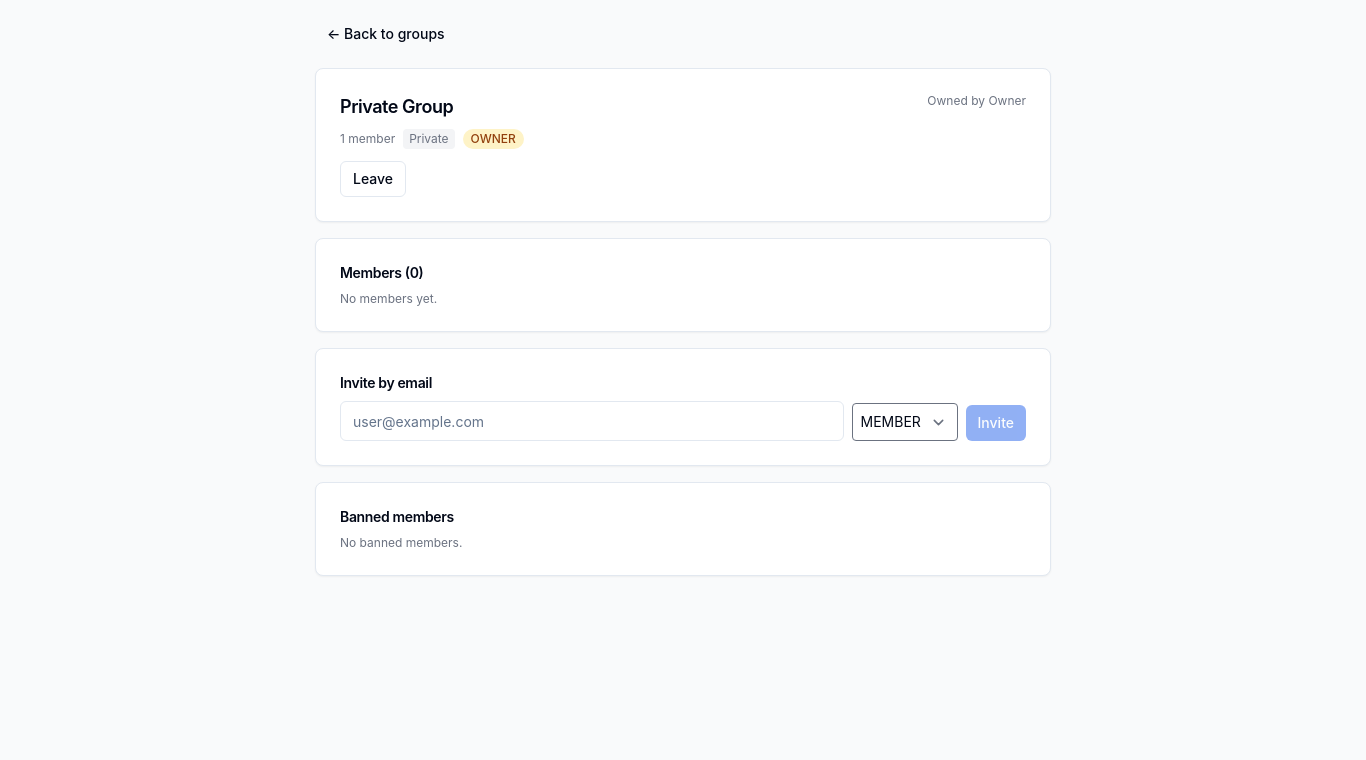
durable invite-link recovery › creating an invite › when the clipboard works the toast says so, and the invite is listed all the same
Type "new@test.com" into the field with placeholder "user@example.com" at (592, 421), box [340, 401, 844, 441]
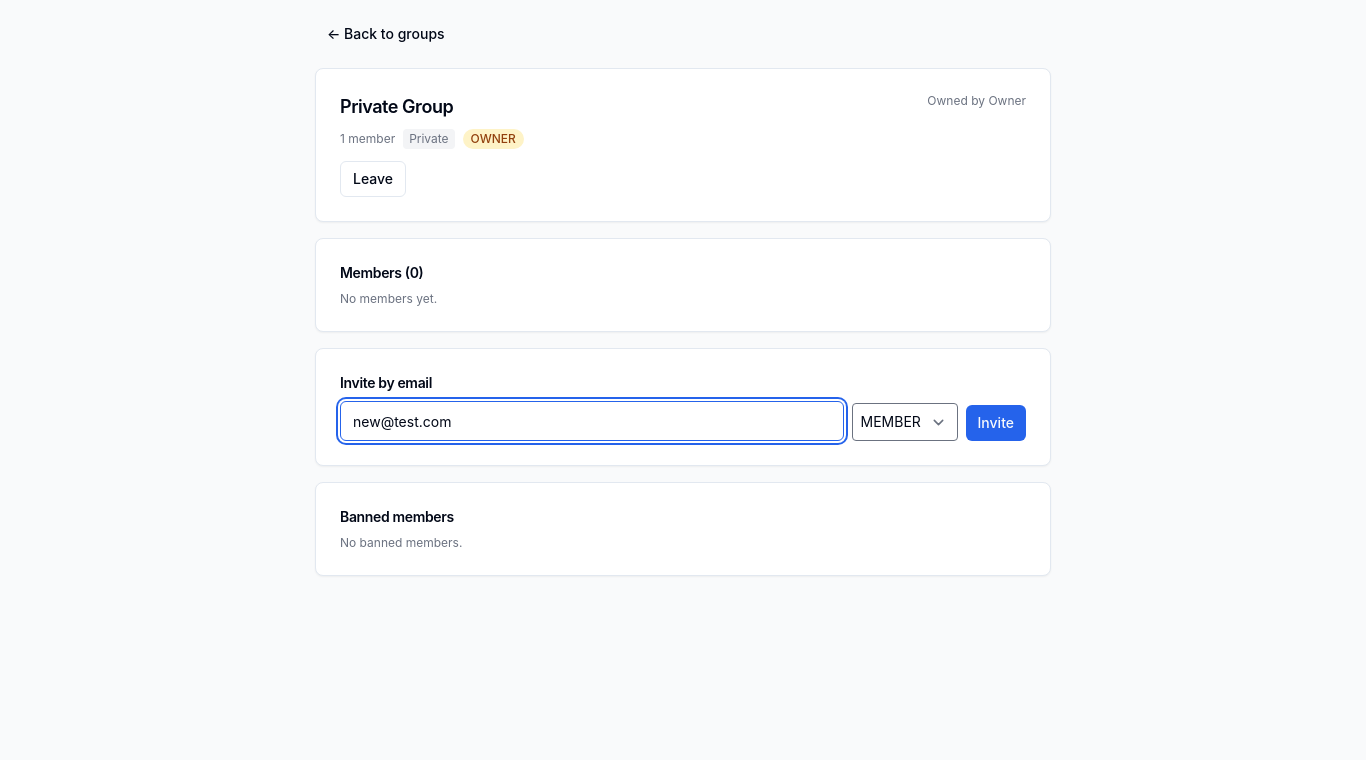
Click the button "Invite" at (996, 423), box [966, 405, 1026, 441]
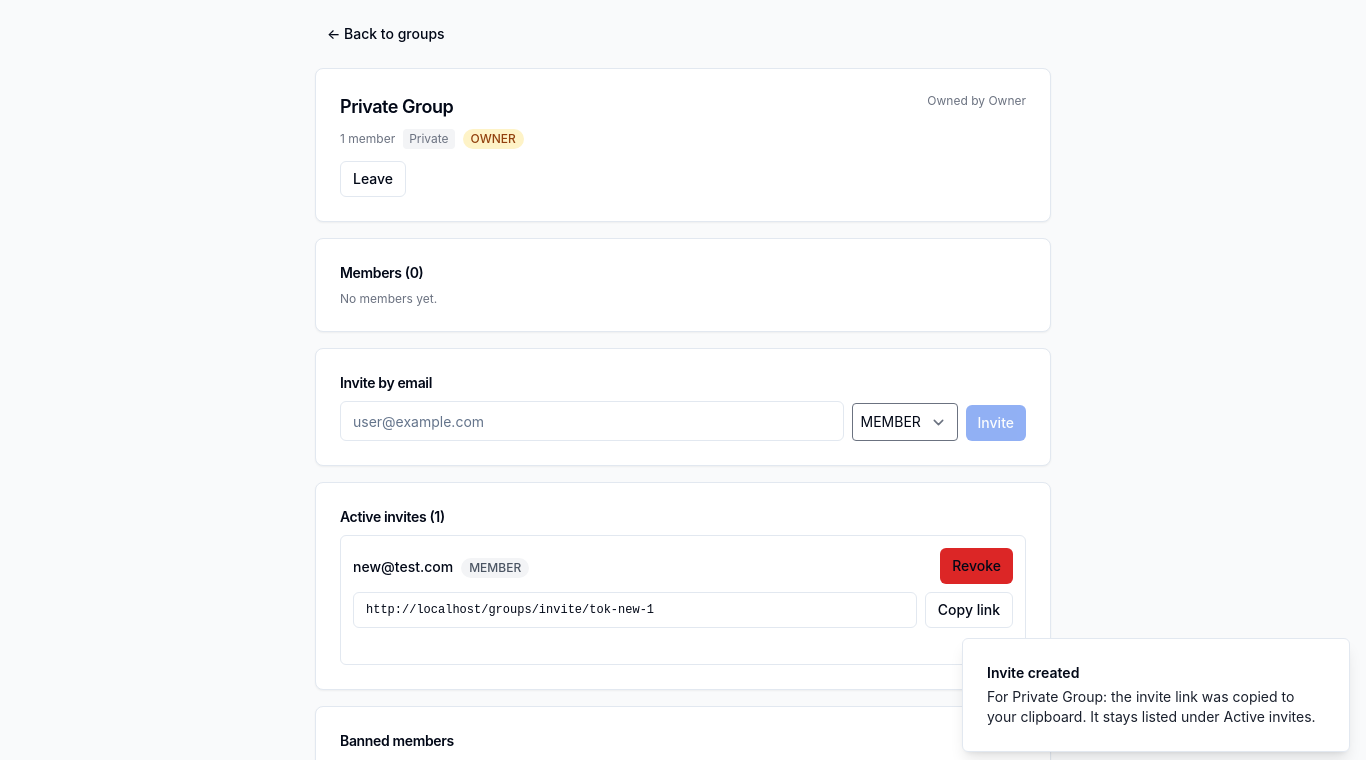
expect the heading "Active invites (1)" is shown: met, box [340, 508, 445, 525]
expect the text "copied to your clipboard" is shown: met, box [987, 688, 1316, 725]
